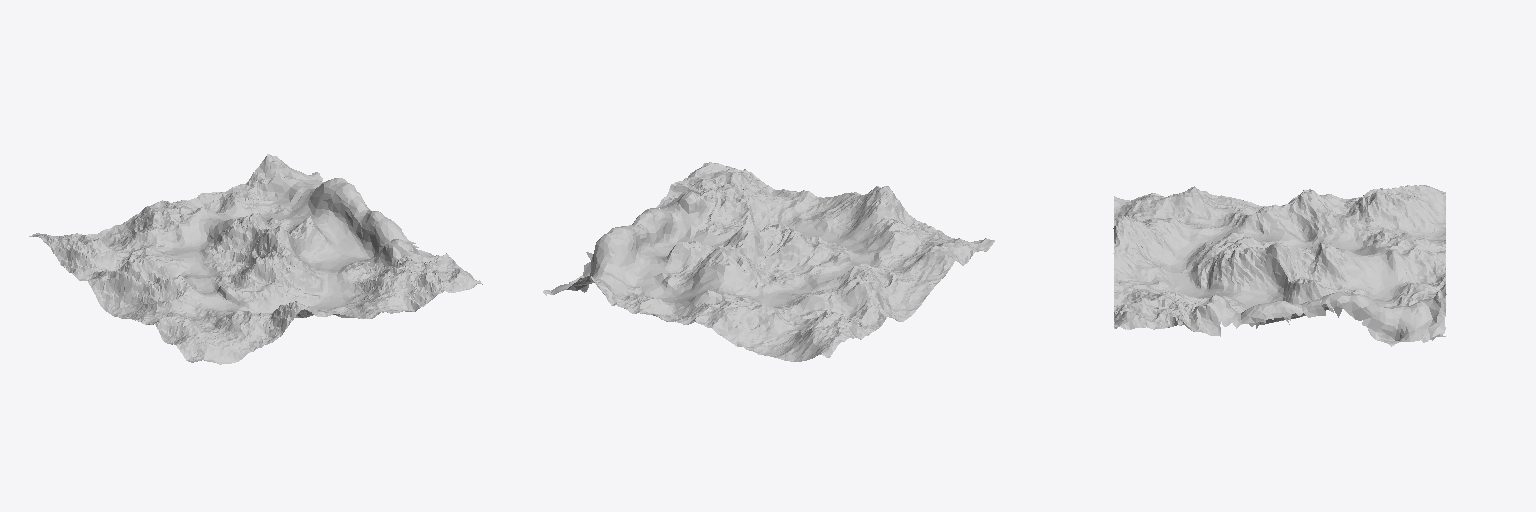
The model's file is testterrain13.obj.
3 views of the same model, side by side, from view 1: azimuth 30°, elevation 25°; view 2: azimuth 150°, elevation 25°; view 3: azimuth 270°, elevation 25° (orthographic).
Visible parts, largest first — view 1: Mountains; view 2: Mountains; view 3: Mountains.
Boxes of the visible parts, x1,y1,x2,y2 form: Mountains: [29, 154, 482, 364]; Mountains: [543, 162, 994, 361]; Mountains: [1113, 185, 1446, 346].
Bounding box in the file's own units: 200 × 32.57 × 200.